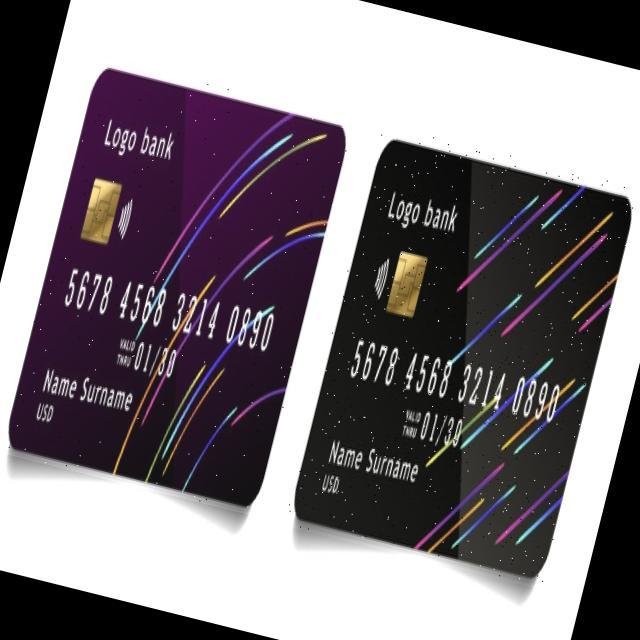payment_card: (6, 65, 346, 511), (293, 137, 632, 580)
